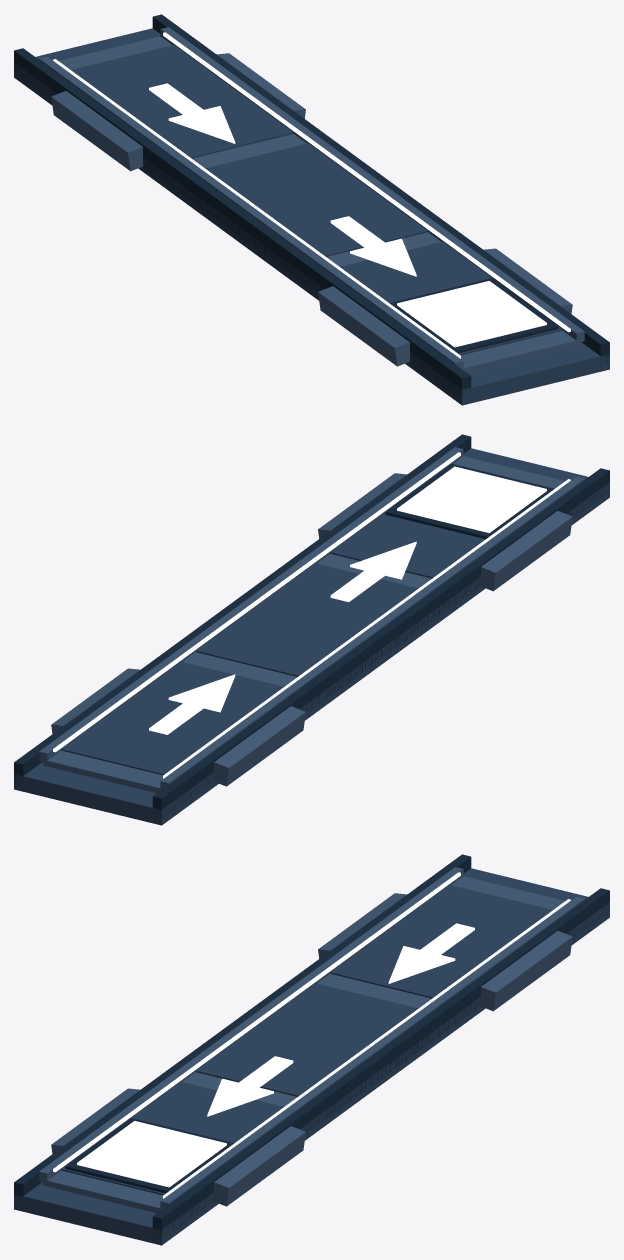
File: dive_track_segment.glb
The picture shows the model from 3 angles, top to bottom: view 1: azimuth 30°, elevation 25°; view 2: azimuth 150°, elevation 25°; view 3: azimuth 330°, elevation 25°; orthographic projection.
Parts seen in each view (by area): view 1: DECK_PANEL_01, DECK_PANEL_00, SIDE_LEFT, BASE, DECK, PAD, DECK_PANEL_02, SHOULDER_RIGHT, SHOULDER_LEFT, SIDE_RIGHT, SIDE_POD_L_01, SIDE_POD_L_00 (+7 smaller); view 2: DECK_PANEL_01, DECK_PANEL_00, BASE, SIDE_LEFT, DECK, PAD, DECK_PANEL_02, SHOULDER_RIGHT, SHOULDER_LEFT, SIDE_RIGHT, SIDE_POD_L_00, SIDE_POD_L_01 (+7 smaller); view 3: DECK_PANEL_01, DECK_PANEL_00, SIDE_RIGHT, BASE, DECK, PAD, DECK_PANEL_02, SHOULDER_LEFT, SHOULDER_RIGHT, SIDE_LEFT, SIDE_POD_R_01, SIDE_POD_R_00 (+7 smaller).
Part boxes in pixels (box(x1,y1,x2,y2)): DECK_PANEL_01: box(205, 143, 427, 256); DECK_PANEL_00: box(71, 45, 293, 158); SIDE_LEFT: box(14, 48, 471, 398); BASE: box(14, 28, 609, 405); DECK: box(59, 36, 580, 373); PAD: box(397, 281, 546, 347); DECK_PANEL_02: box(340, 241, 562, 355); SHOULDER_RIGHT: box(160, 27, 584, 341); SHOULDER_LEFT: box(39, 56, 463, 370); SIDE_RIGHT: box(152, 14, 609, 365); SIDE_POD_L_01: box(318, 286, 409, 366); SIDE_POD_L_00: box(51, 91, 142, 171); DECK_PANEL_01: box(196, 563, 418, 676); DECK_PANEL_00: box(61, 661, 283, 775); BASE: box(14, 448, 609, 825); SIDE_LEFT: box(152, 468, 609, 819); DECK: box(43, 456, 564, 793); PAD: box(397, 466, 546, 532); DECK_PANEL_02: box(330, 512, 485, 578); SHOULDER_RIGHT: box(39, 447, 463, 762); SHOULDER_LEFT: box(160, 476, 584, 789); SIDE_RIGHT: box(14, 434, 471, 784); SIDE_POD_L_00: box(214, 706, 305, 786); SIDE_POD_L_01: box(481, 511, 572, 591); DECK_PANEL_01: box(196, 983, 418, 1096); DECK_PANEL_00: box(330, 885, 552, 998); SIDE_RIGHT: box(152, 888, 609, 1238); BASE: box(14, 868, 609, 1245); DECK: box(43, 876, 564, 1213); PAD: box(77, 1121, 226, 1187); DECK_PANEL_02: box(61, 1081, 283, 1195); SHOULDER_LEFT: box(39, 867, 463, 1182); SHOULDER_RIGHT: box(160, 896, 584, 1209); SIDE_LEFT: box(14, 854, 471, 1204); SIDE_POD_R_01: box(214, 1126, 305, 1206); SIDE_POD_R_00: box(481, 931, 572, 1011).
Size of the model in its own units: 96.3 by 15.1 by 420.
